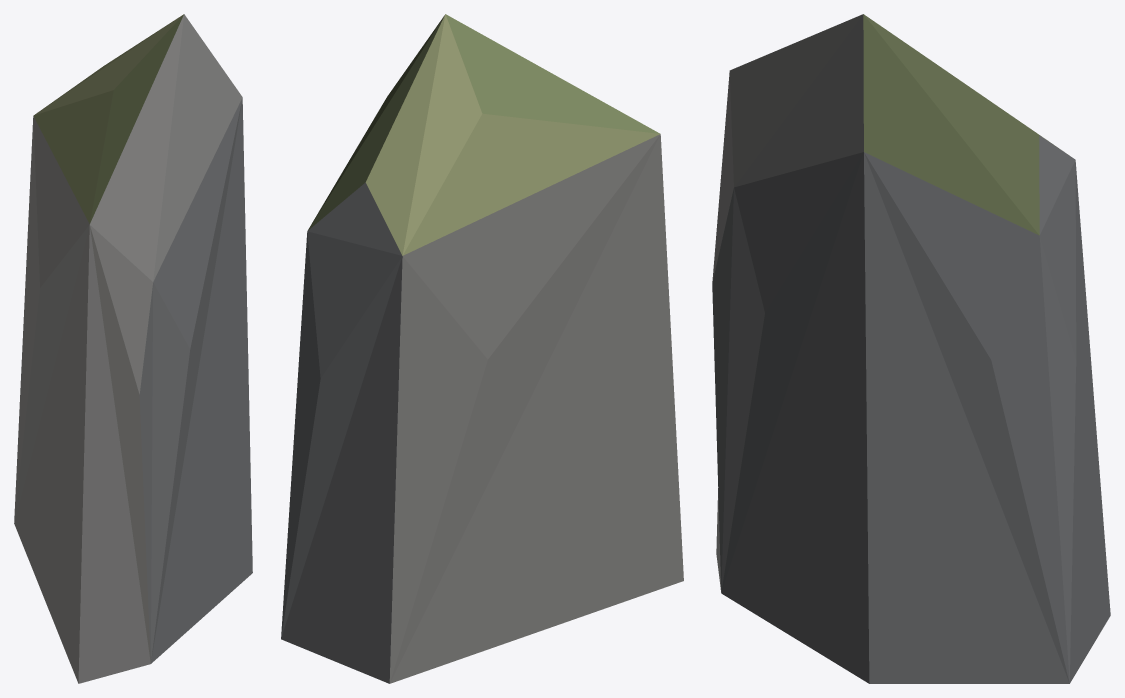
File: cliff_central_wall.glb
3 renders of one model, left to right at view 1: azimuth 30°, elevation 25°; view 2: azimuth 150°, elevation 25°; view 3: azimuth 270°, elevation 25°, orthographic. The views are drawn at different scales.
Visible parts, largest first — view 1: cliff_central_wall; view 2: cliff_central_wall; view 3: cliff_central_wall.
Boxes of the visible parts, x1,y1,x2,y2 form: cliff_central_wall: (14,14,252,683); cliff_central_wall: (281,14,683,683); cliff_central_wall: (712,14,1110,683).
Bounding box in the file's own units: 34.04 × 77 × 44.
